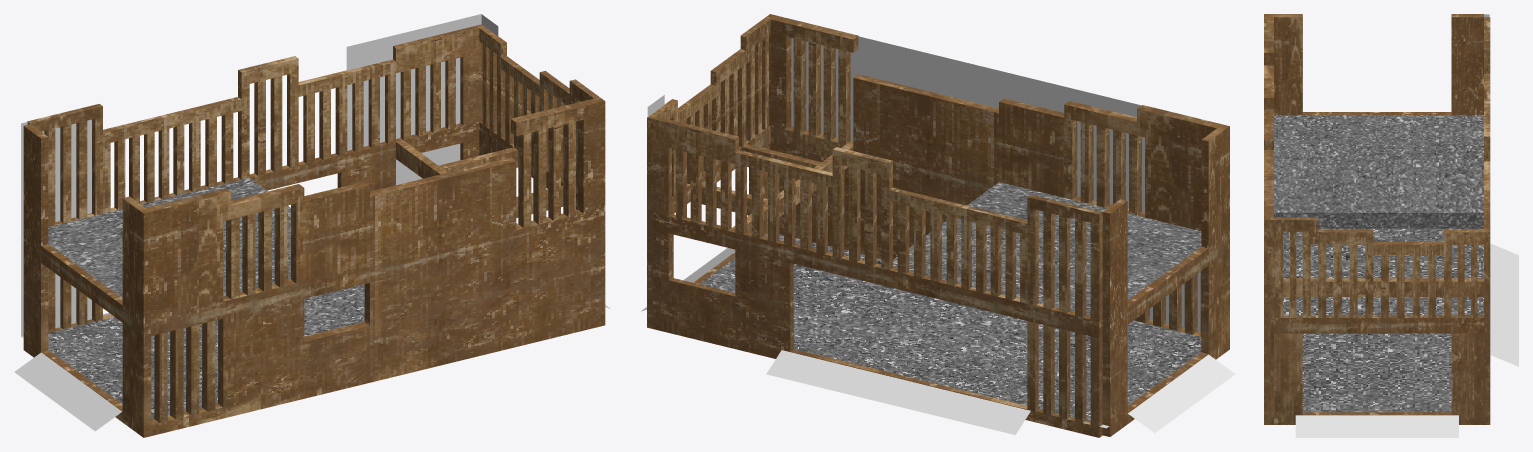
The model's file is construction_site.glb.
3 renders of one model, left to right at view 1: azimuth 30°, elevation 25°; view 2: azimuth 150°, elevation 25°; view 3: azimuth 270°, elevation 25°, orthographic. The views are drawn at different scales.
Parts seen in each view (by area): view 1: Cube, plane-col; view 2: Cube, plane-col; view 3: Cube, plane-col.
Part boxes in pixels (left/top/right/bottom): Cube: left=23, top=24, right=605, bottom=437; plane-col: left=14, top=14, right=610, bottom=431; Cube: left=647, top=14, right=1229, bottom=437; plane-col: left=641, top=36, right=1235, bottom=434; Cube: left=1264, top=14, right=1490, bottom=424; plane-col: left=1295, top=14, right=1518, bottom=437.
Size of the model in its own units: 21.47 by 9.08 by 10.11.
Materials: 3 (3 with a texture image).
